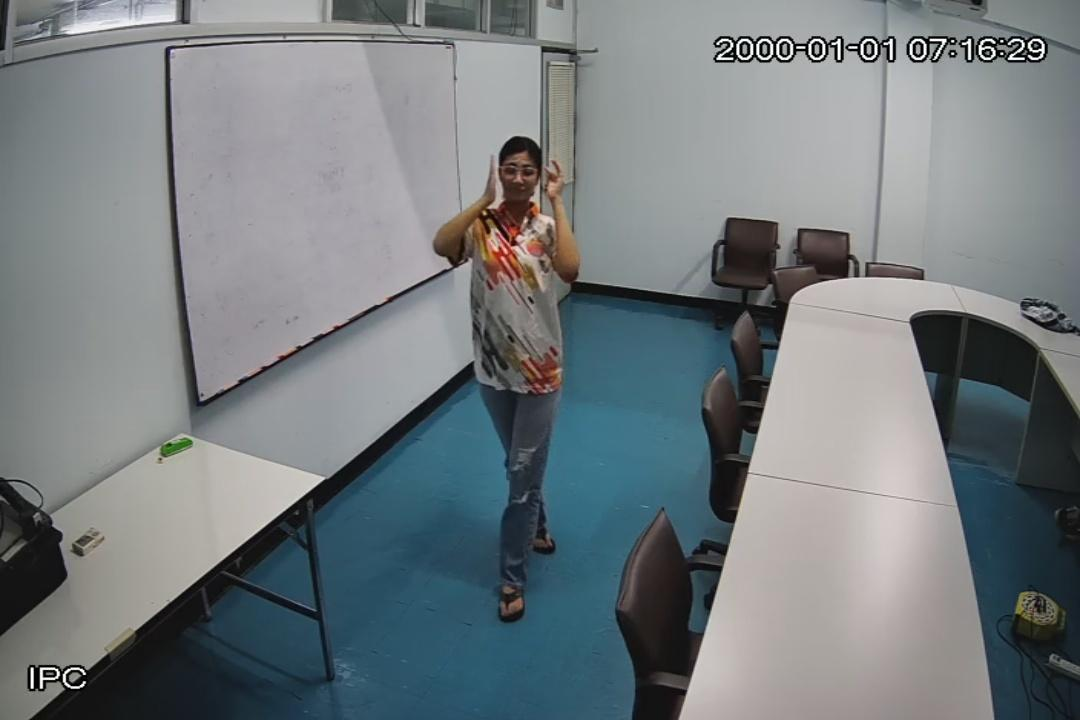normal: (432, 134, 580, 615)
